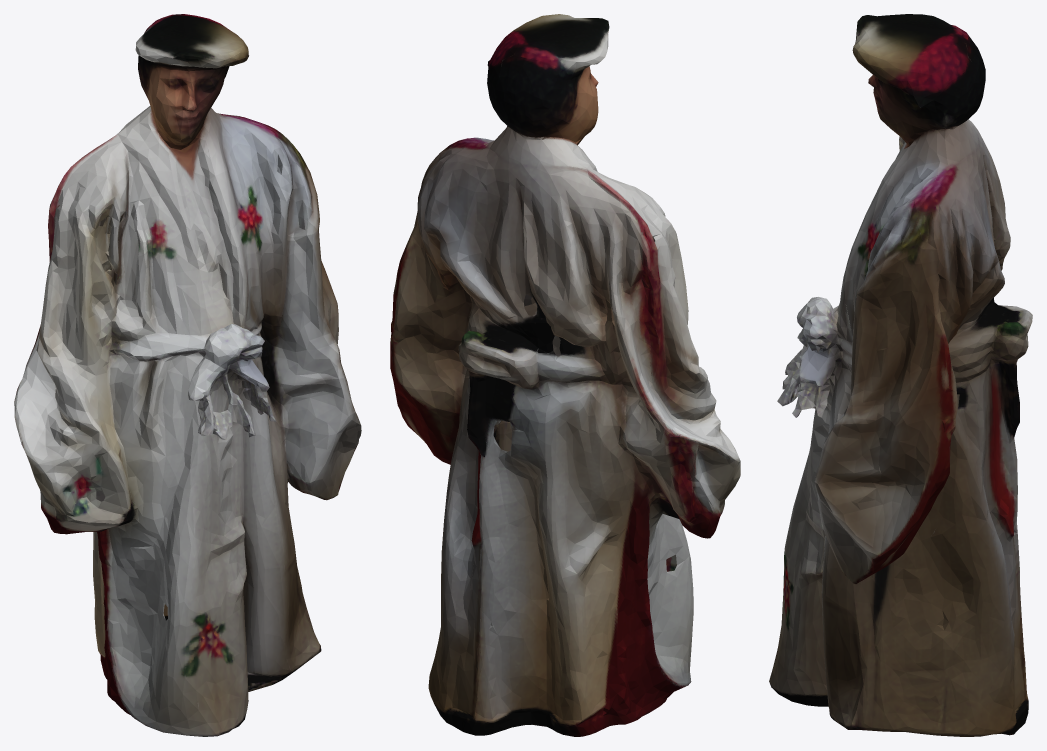
File: atire2.gltf
3 renders of one model, left to right at view 1: azimuth 30°, elevation 25°; view 2: azimuth 150°, elevation 25°; view 3: azimuth 270°, elevation 25°, orthographic. The views are drawn at different scales.
Visible parts, largest first — view 1: world; view 2: world; view 3: world.
Part boxes in pixels (x1=…): world: x1=14, y1=14, x2=361, y2=736; world: x1=390, y1=14, x2=740, y2=736; world: x1=769, y1=14, x2=1032, y2=736.
Size of the model in its own units: 0.5189 by 1 by 0.3523.
Materials: 1 (1 with a texture image).
